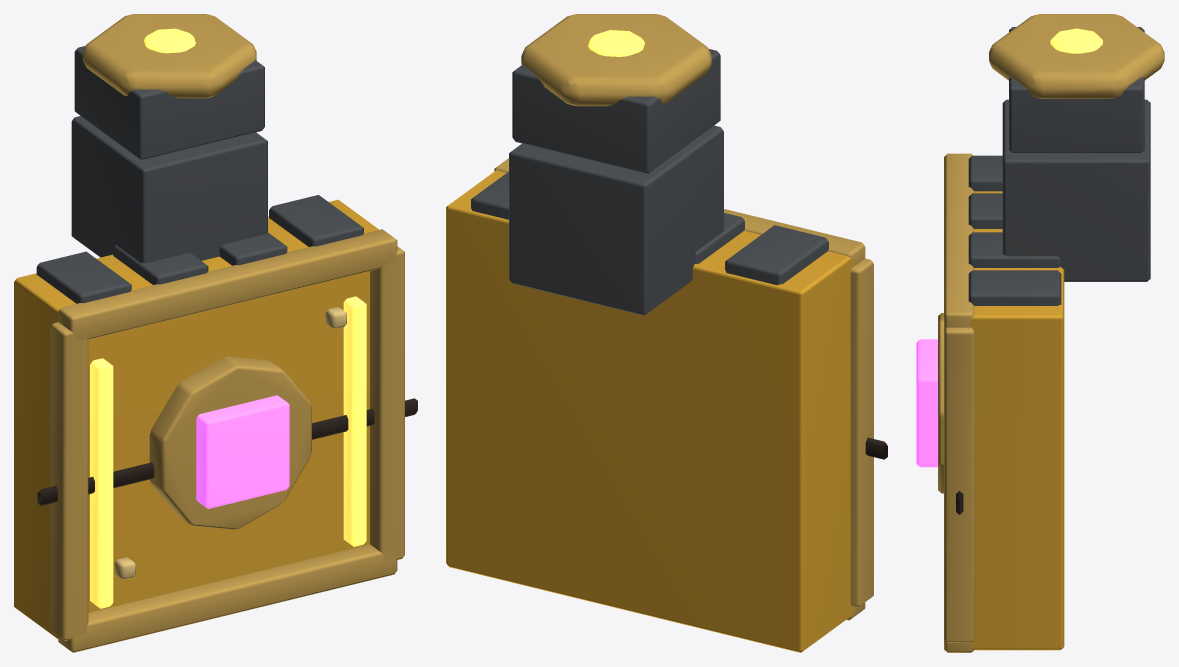
The model's file is grumble_co_bastion_fist.glb.
3 renders of one model, left to right at view 1: azimuth 30°, elevation 25°; view 2: azimuth 150°, elevation 25°; view 3: azimuth 270°, elevation 25°, orthographic. The views are drawn at different scales.
Visible parts, largest first — view 1: grumble_co_bastion_fist; view 2: grumble_co_bastion_fist; view 3: grumble_co_bastion_fist.
Boxes of the visible parts, x1,y1,x2,y2 form: grumble_co_bastion_fist: (14,14,417,652); grumble_co_bastion_fist: (446,14,887,652); grumble_co_bastion_fist: (916,14,1164,652).
Size of the model in its own units: 0.72 by 0.9575 by 0.4025.
1 material, 1 textured.
